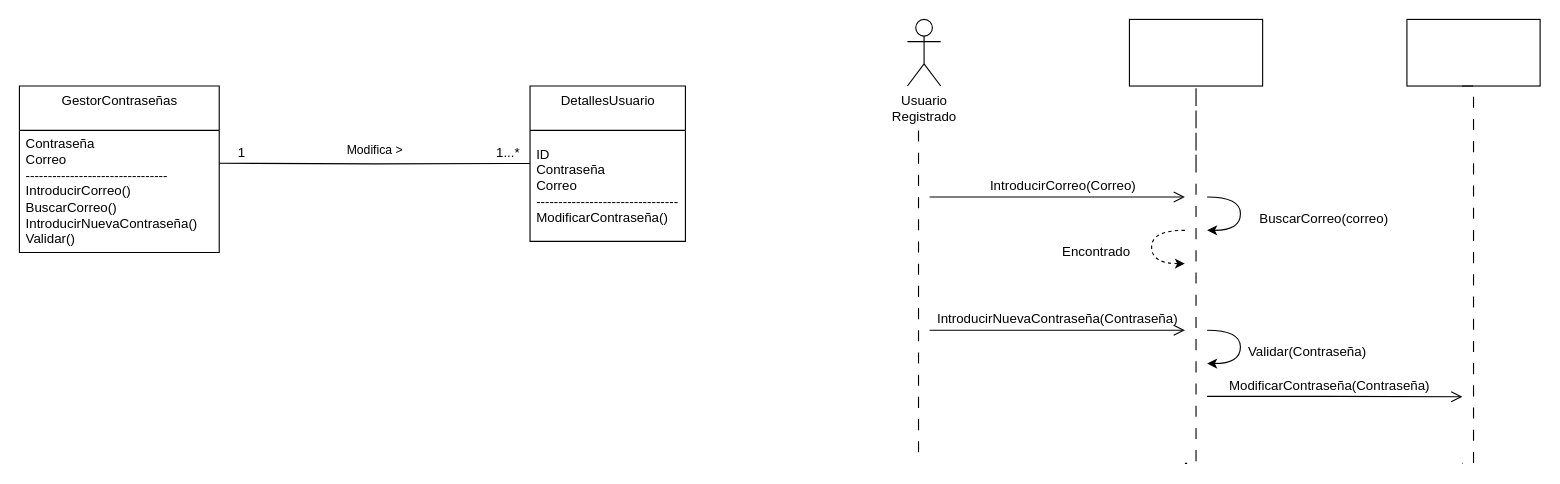
Image size: 1560x484. Some labels were removed from this diagram. The centre of each missing label's shape, as x and y in pixels:
":DetallesUsuario" goes at [1473,52].
":GestorUsuarios" goes at [1195,52].
